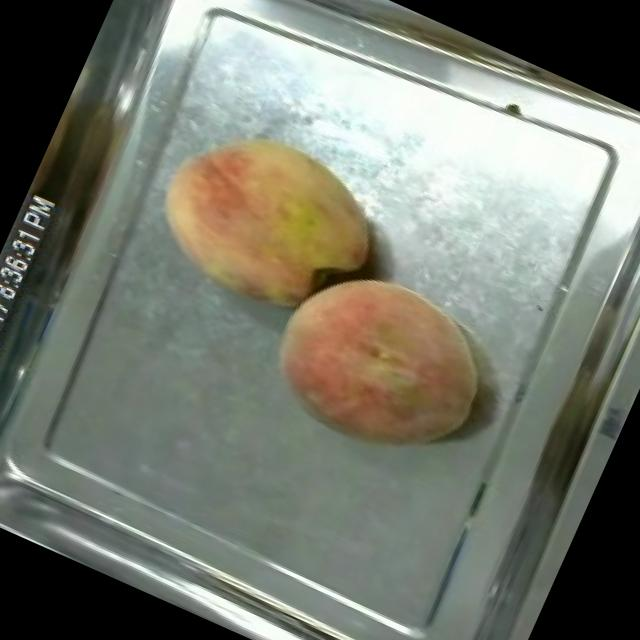Fruit: (124, 92, 407, 348), (242, 237, 514, 486)
